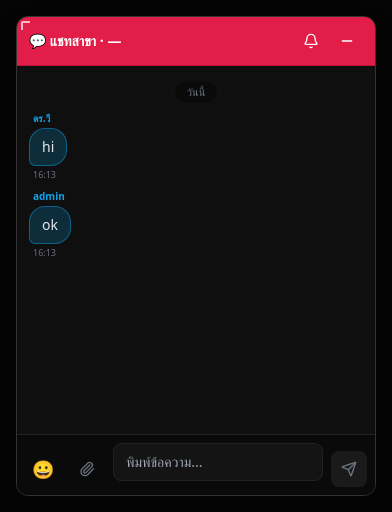
V73.M1 @mention flow › M1.1 typing @ → dropdown appears
Type "hello @" into the text box with test id "staff-chat-composer-input".
click(218, 462); type("hello @")  # box [113,443,323,481]
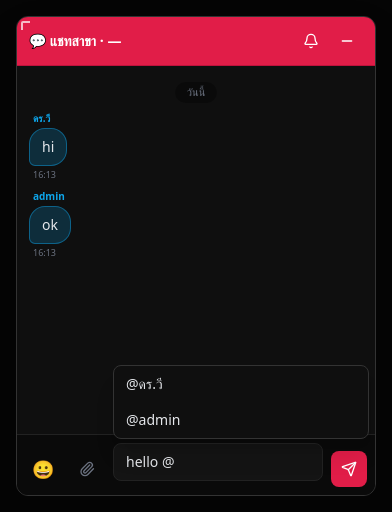
Now the element with test id "staff-chat-mention-dropdown" is shown, box [113,365,369,439]
